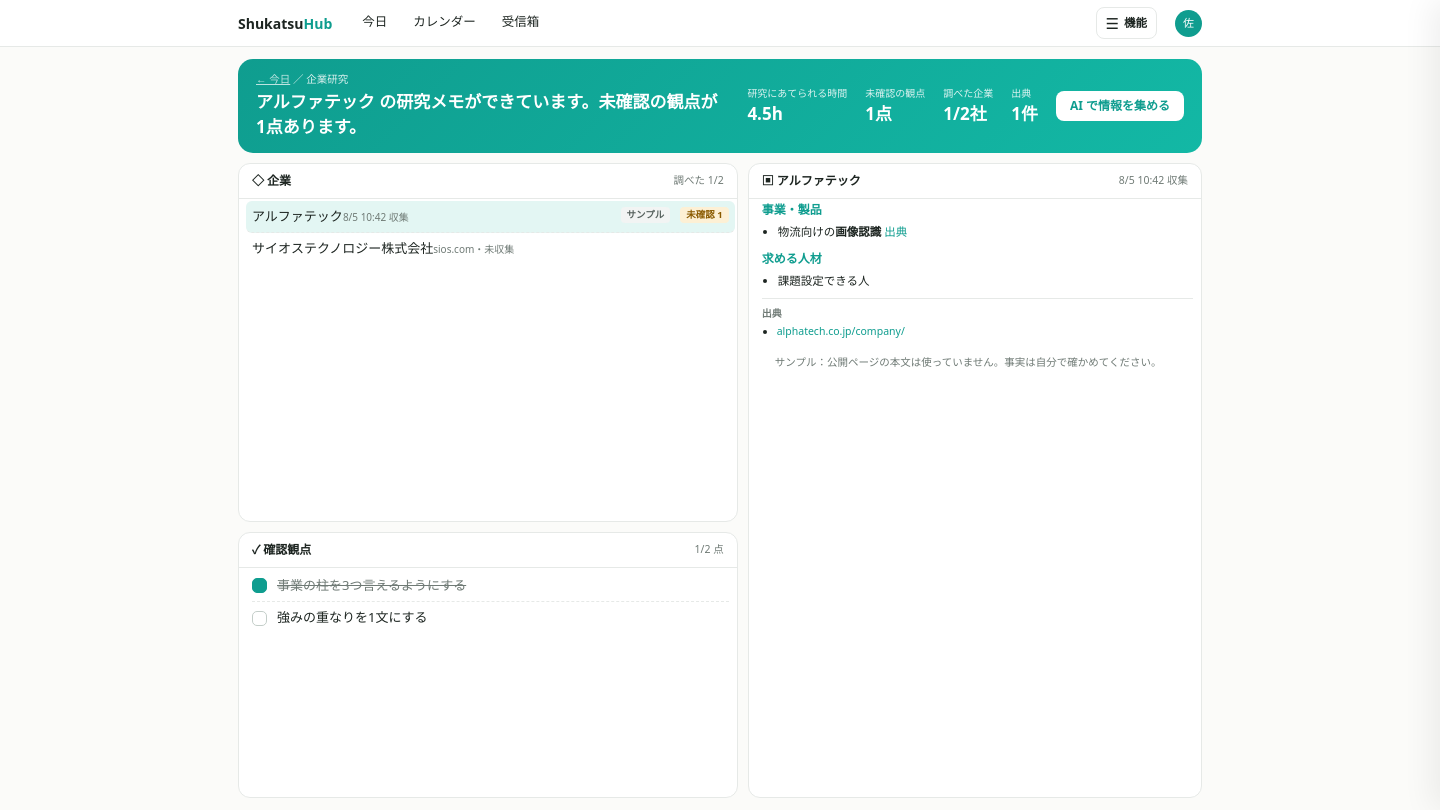
it: AI で情報を集める › 選んだ企業で収集され、読めたページ数が出る
Expected: the text "サイオステクノロジー株式会社" is shown, x1=252 y1=239 x2=433 y2=257
What coordinates should you click on to do the following:
click the button "サイオステクノロジー株式会社"
I would click on:
 (490, 249)
Its box is x1=252 y1=239 x2=729 y2=259.
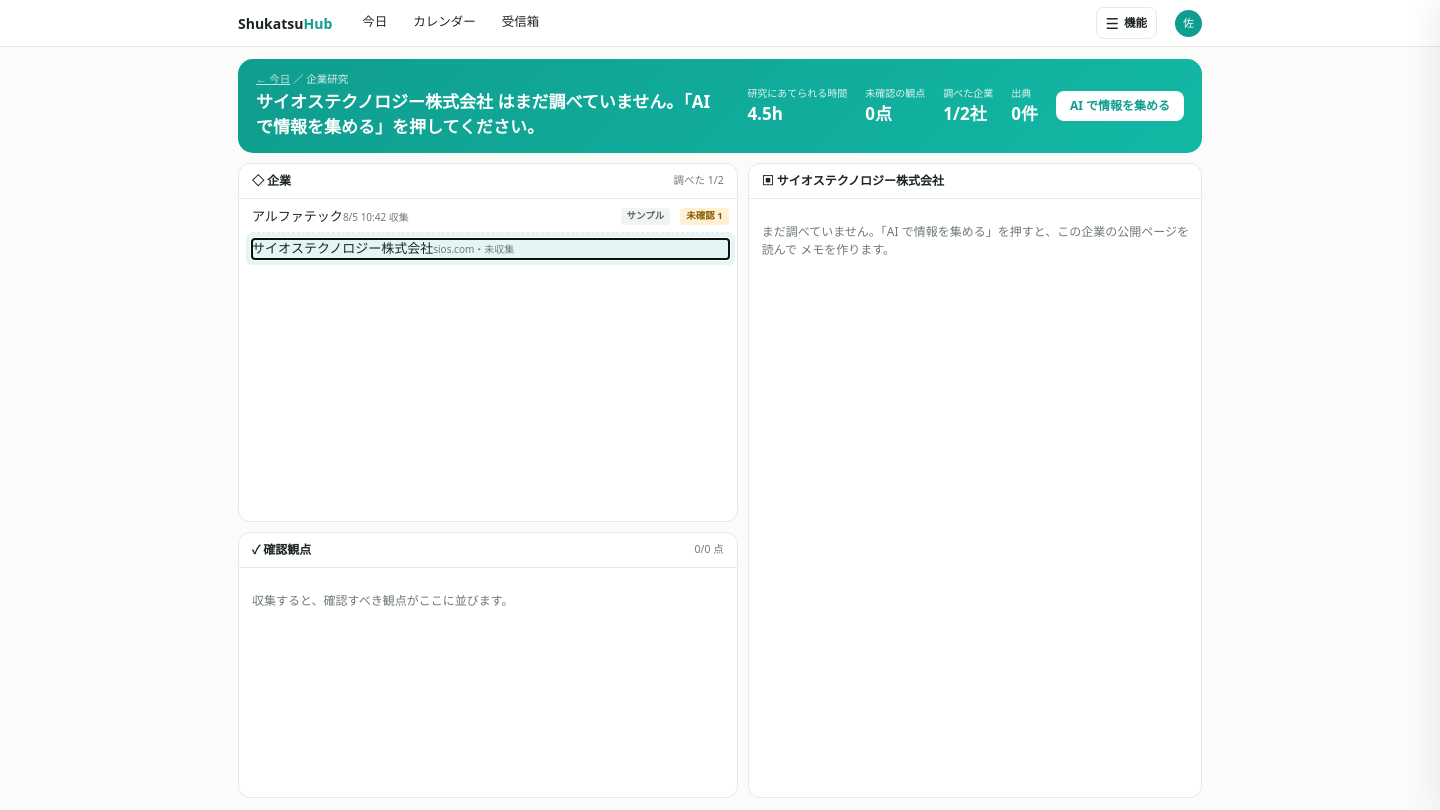
What coordinates should you click on to do the following:
click the button "AI で情報を集める"
I would click on:
 (1120, 106)
Its box is x1=1056 y1=91 x2=1184 y2=121.
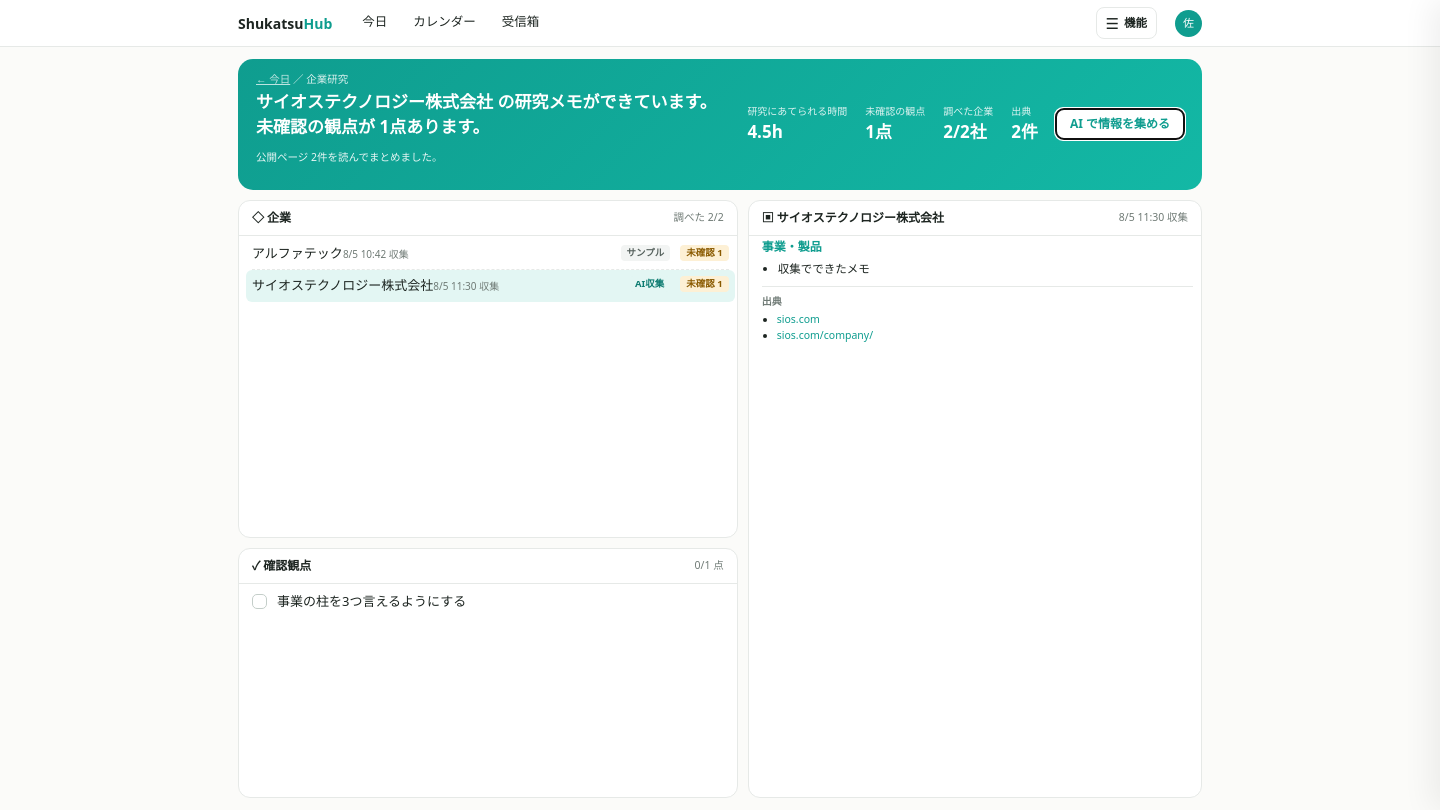
Result: the text "公開ページ 2件を読んでまとめました。" is shown at x1=256 y1=150 x2=442 y2=164
Result: the list item "収集でできたメモ" is shown at x1=778 y1=260 x2=870 y2=276
